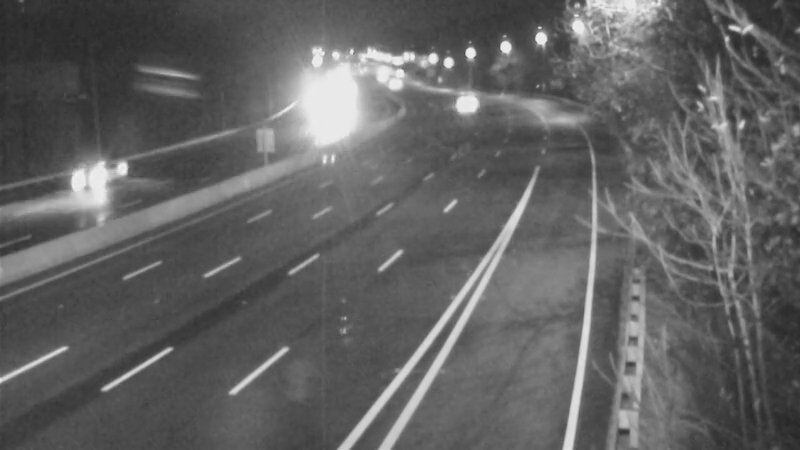vehicle: (43, 142, 123, 222), (370, 60, 420, 110), (432, 77, 482, 127)
